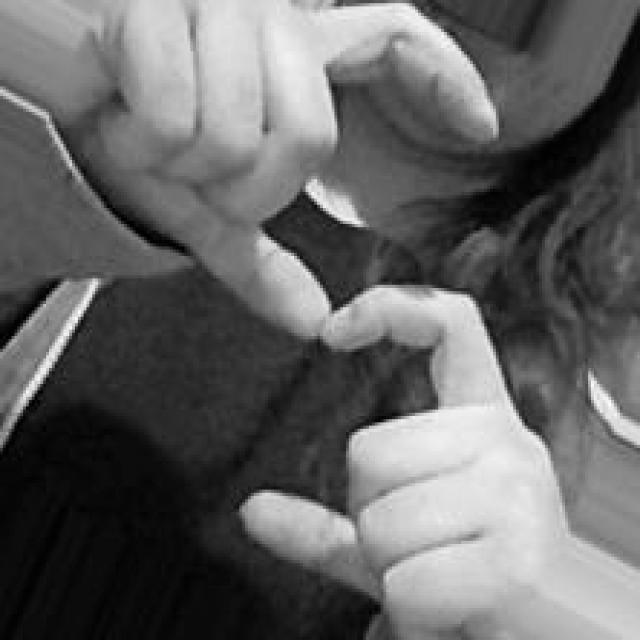S: (89, 0, 565, 637)
